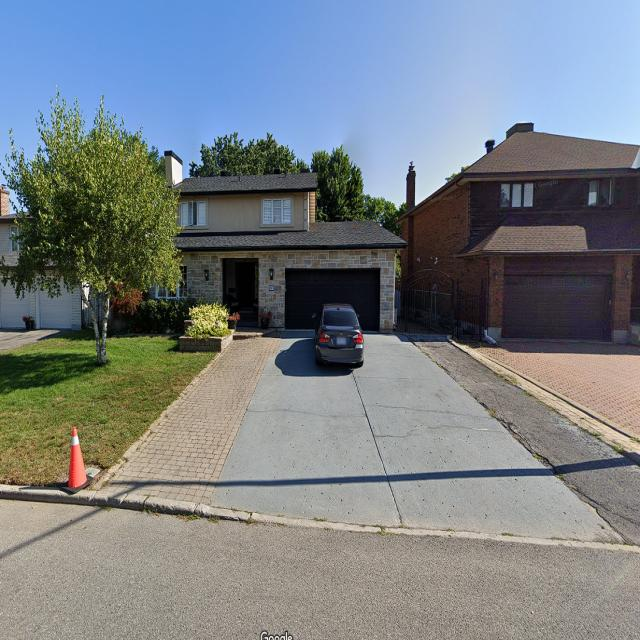Door: (224, 260, 258, 333)
curb: (5, 482, 638, 551)
obstacle: (310, 301, 370, 368), (178, 310, 238, 349), (81, 289, 108, 360), (67, 429, 89, 490)
walkways: (99, 333, 626, 544)
